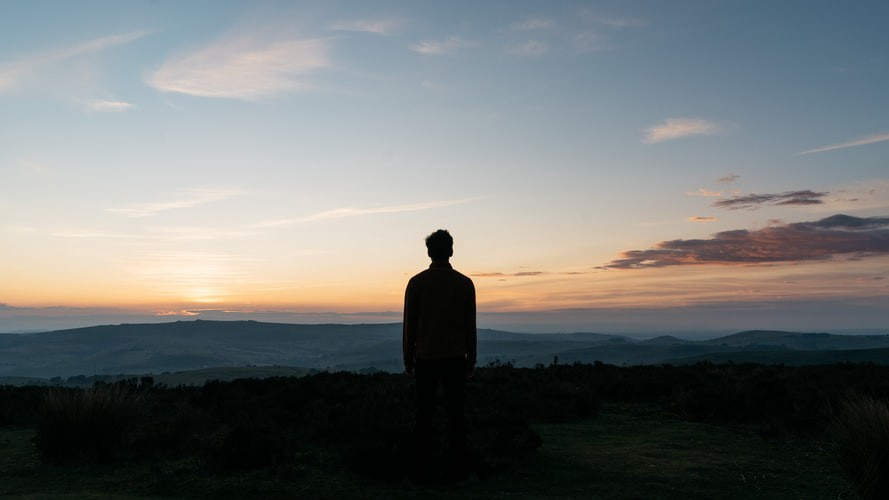Person: (393, 216, 500, 463)
